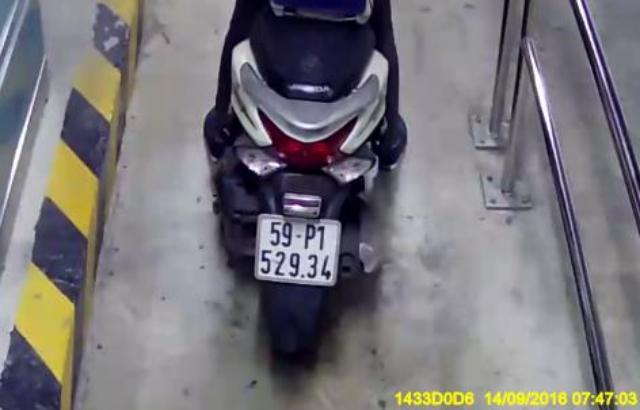plate: (252, 209, 344, 287)
